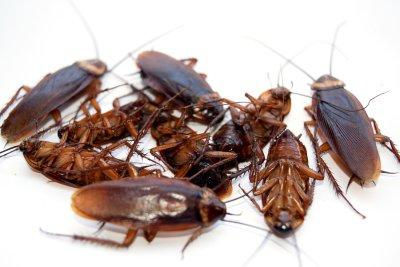cockroach: (70, 170, 228, 244), (3, 55, 107, 144), (306, 72, 382, 189), (148, 111, 234, 198), (134, 48, 225, 126), (15, 140, 162, 186), (210, 85, 292, 162), (57, 96, 165, 150), (260, 128, 310, 240)
